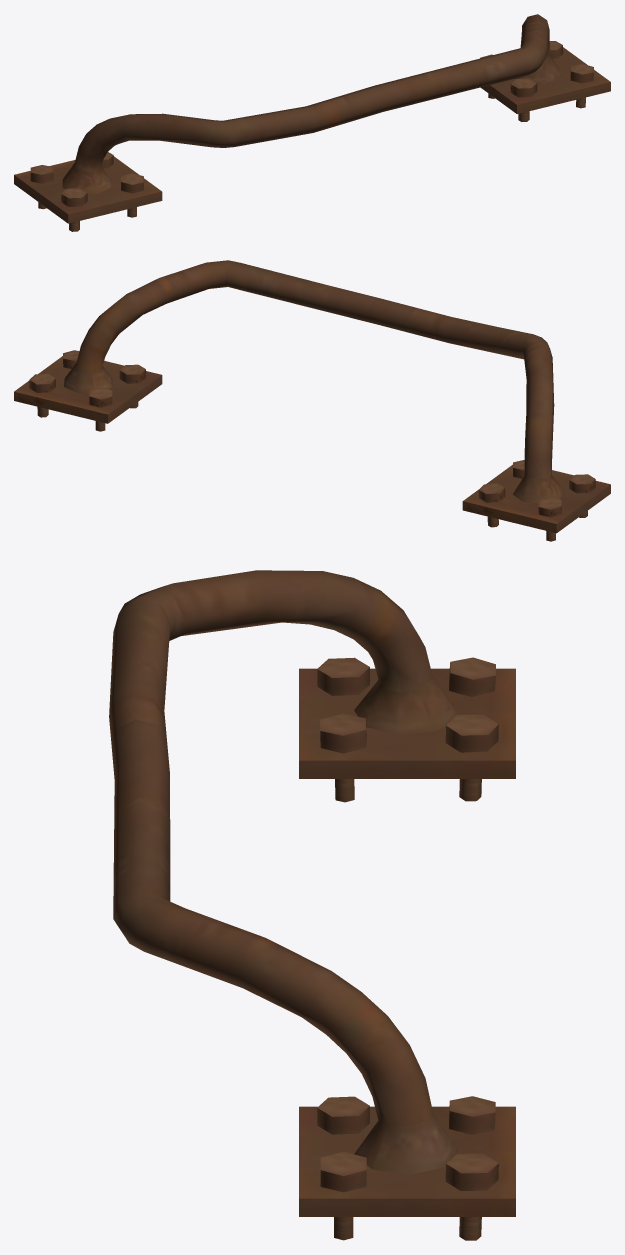
Rendered from rope_ladder_hook_a.glb.
3 views of the same model, one above another, from view 1: azimuth 30°, elevation 25°; view 2: azimuth 150°, elevation 25°; view 3: azimuth 270°, elevation 25° (orthographic). The views are drawn at different scales.
Parts seen in each view (by area): view 1: rope_ladder_hook_a; view 2: rope_ladder_hook_a; view 3: rope_ladder_hook_a.
Boxes of the visible parts, x1,y1,x2,y2 form: rope_ladder_hook_a: (14, 14, 610, 231); rope_ladder_hook_a: (14, 260, 610, 541); rope_ladder_hook_a: (109, 570, 515, 1240).
Bounding box in the file's own units: 0.8547 × 0.1813 × 0.2774.
Materials: 1 (1 with a texture image).
